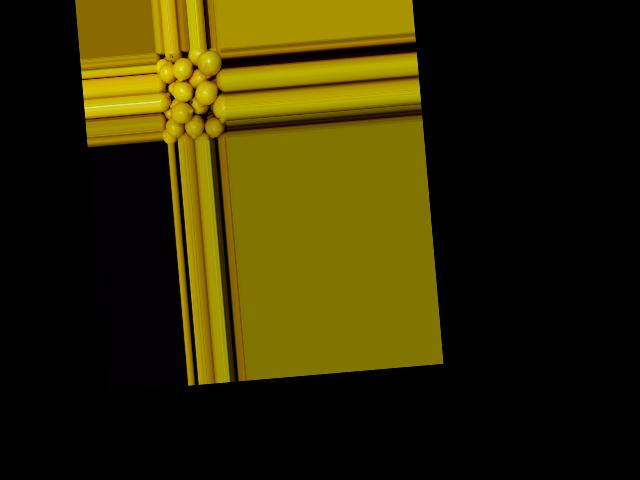lemon: (212, 94, 228, 126)
